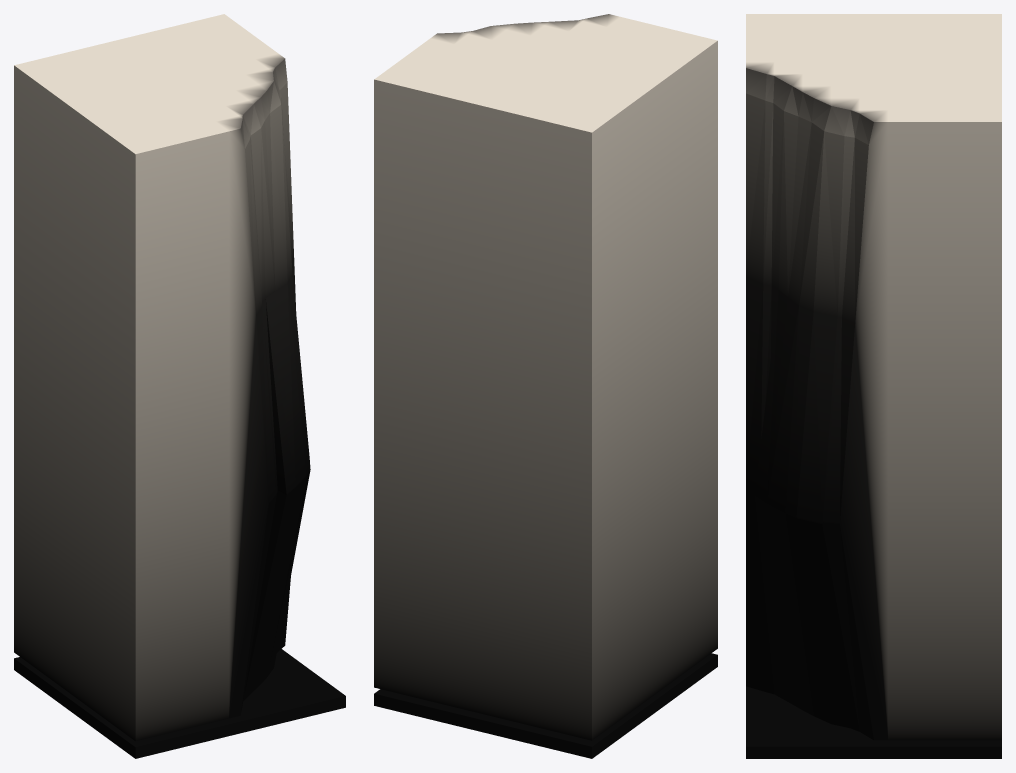
File: SM_VKI_Ground_Cave_OXOO_Q00.fbx
3 renders of one model, left to right at view 1: azimuth 30°, elevation 25°; view 2: azimuth 150°, elevation 25°; view 3: azimuth 270°, elevation 25°, orthographic. The views are drawn at different scales.
Visible parts, largest first — view 1: SM_VKI_Ground_Cave_OXOO_Q00.001; view 2: SM_VKI_Ground_Cave_OXOO_Q00.001; view 3: SM_VKI_Ground_Cave_OXOO_Q00.001.
Boxes of the visible parts, <box> form: SM_VKI_Ground_Cave_OXOO_Q00.001: <box>14,14,345,758</box>; SM_VKI_Ground_Cave_OXOO_Q00.001: <box>374,14,717,758</box>; SM_VKI_Ground_Cave_OXOO_Q00.001: <box>746,14,1001,758</box>.
Size of the model in its own units: 1.5 by 4.12 by 1.5.
